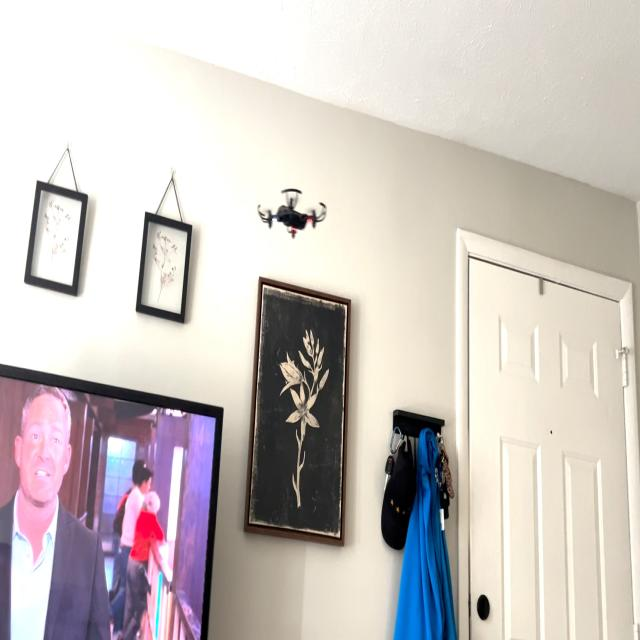drone: (252, 162, 334, 250)
